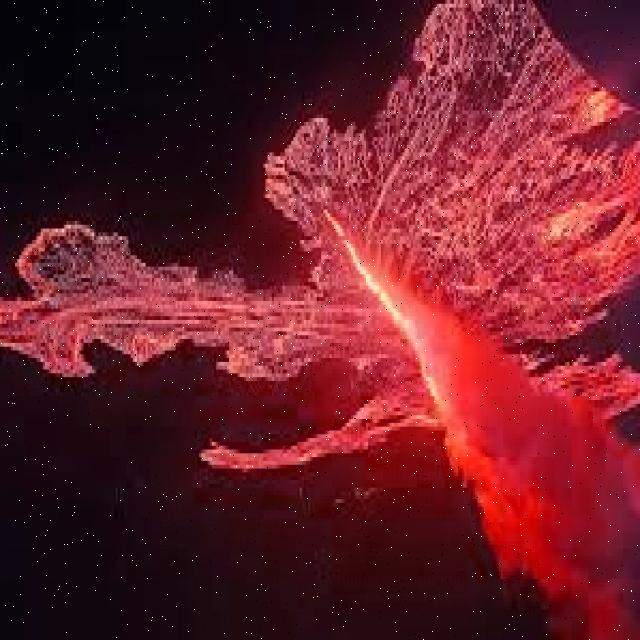explosion: (153, 48, 640, 640)
